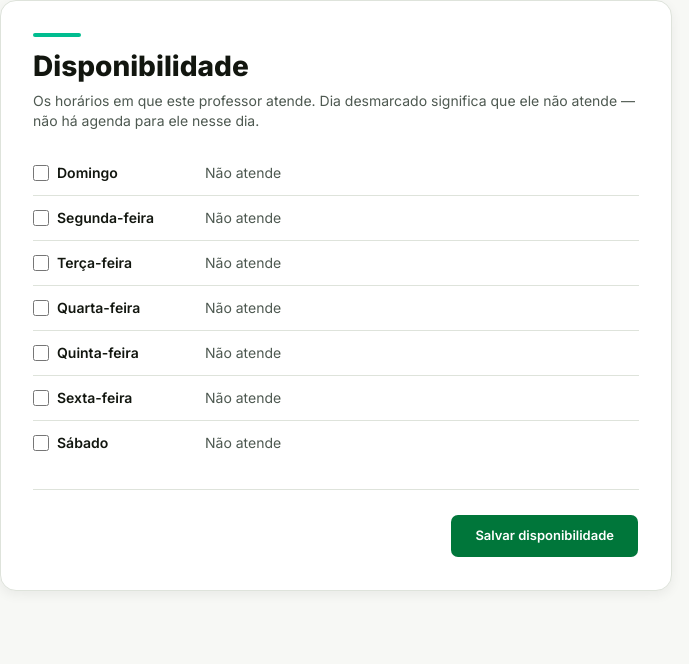
Scenario: DisponibilidadeDoProfessor — SPEC-040/TASK-003 › erro do servidor chega ao gestor com a mensagem do servidor
This screenshot has width=689, height=664.
Click the checkbox named "Atende Segunda-feira" at (41, 218), box [33,210,49,226]
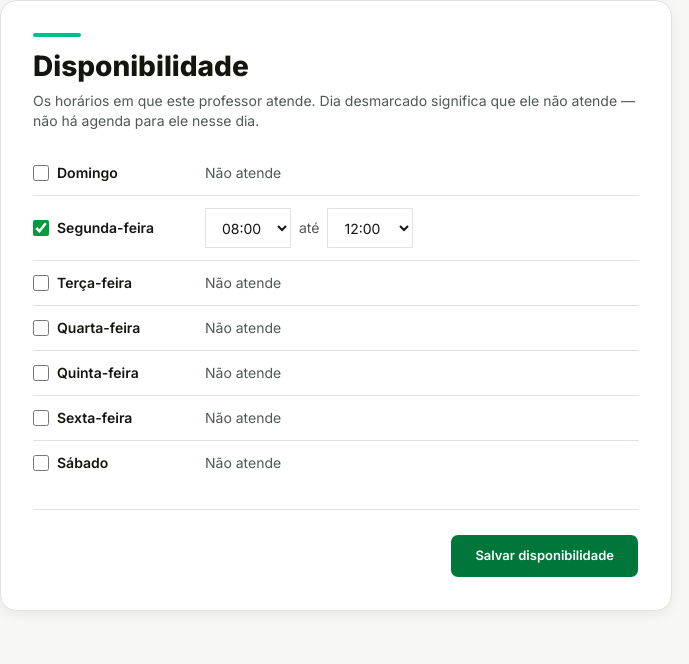
Click the button "Salvar disponibilidade" at (545, 556), box [450,534,639,578]
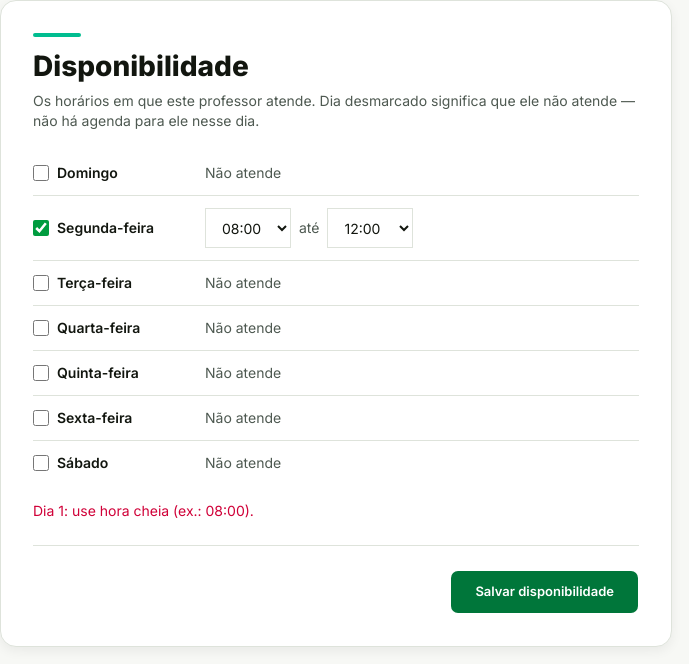
Now the text "Dia 1: use hora cheia (ex.: 08:00)." is shown, box [33,502,254,519]
